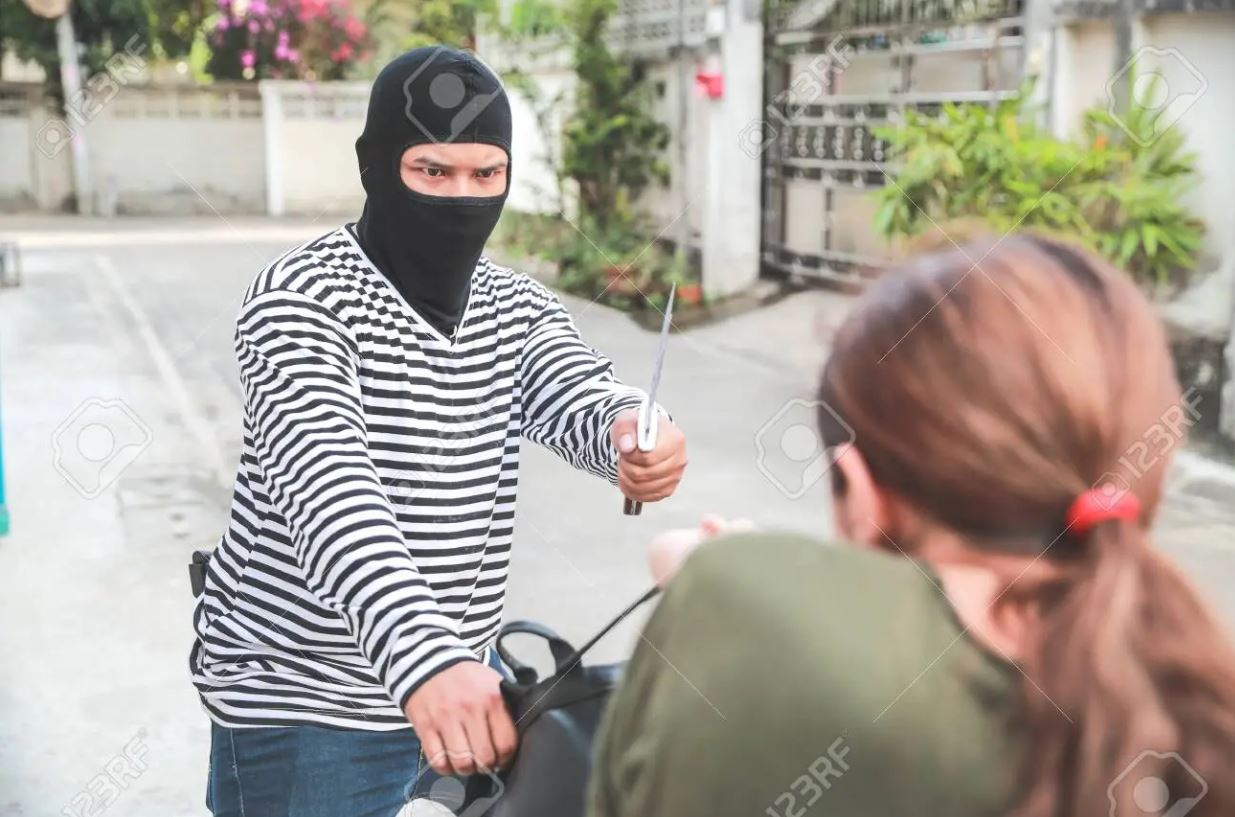Knives: (584, 257, 710, 552)
